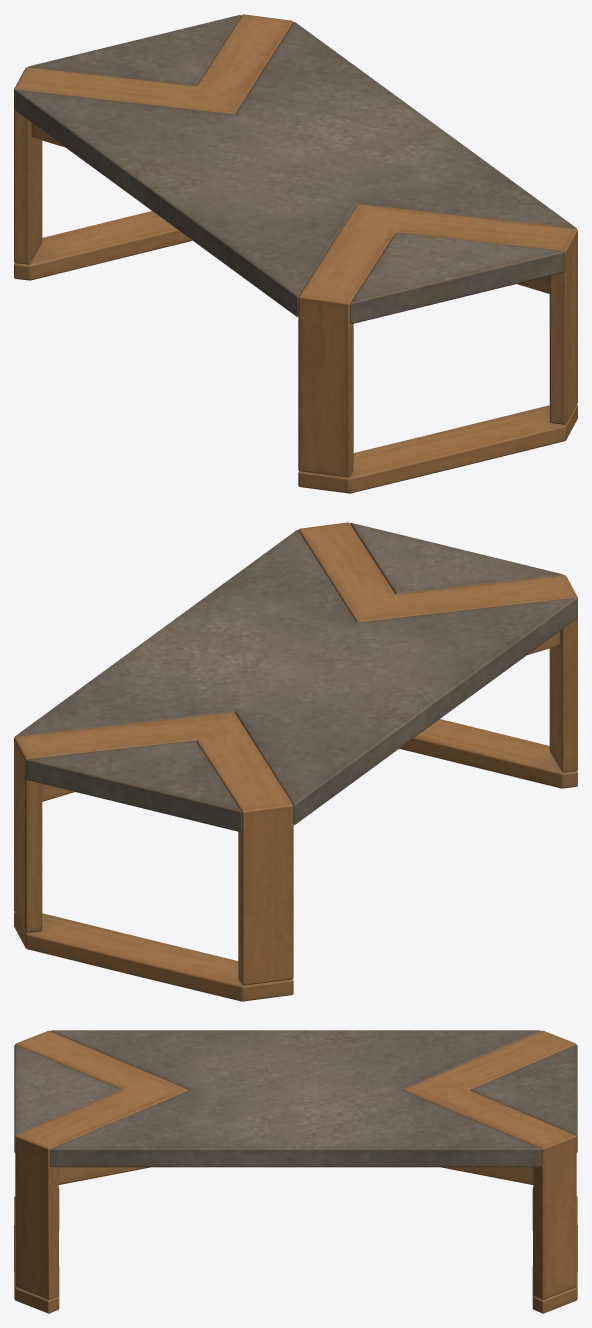
Rendered from modern_coffee_table_01.glb.
3 renders of one model, top to bottom at view 1: azimuth 30°, elevation 25°; view 2: azimuth 150°, elevation 25°; view 3: azimuth 270°, elevation 25°, orthographic. The views are drawn at different scales.
Visible parts, largest first — view 1: modern_coffee_table_01; view 2: modern_coffee_table_01; view 3: modern_coffee_table_01.
Boxes of the visible parts, x1,y1,x2,y2 form: modern_coffee_table_01: (14, 14, 577, 493); modern_coffee_table_01: (14, 522, 577, 1001); modern_coffee_table_01: (14, 1030, 577, 1313).
Size of the model in its own units: 0.5999 by 0.39 by 1.2.
Materials: 1 (1 with a texture image).
